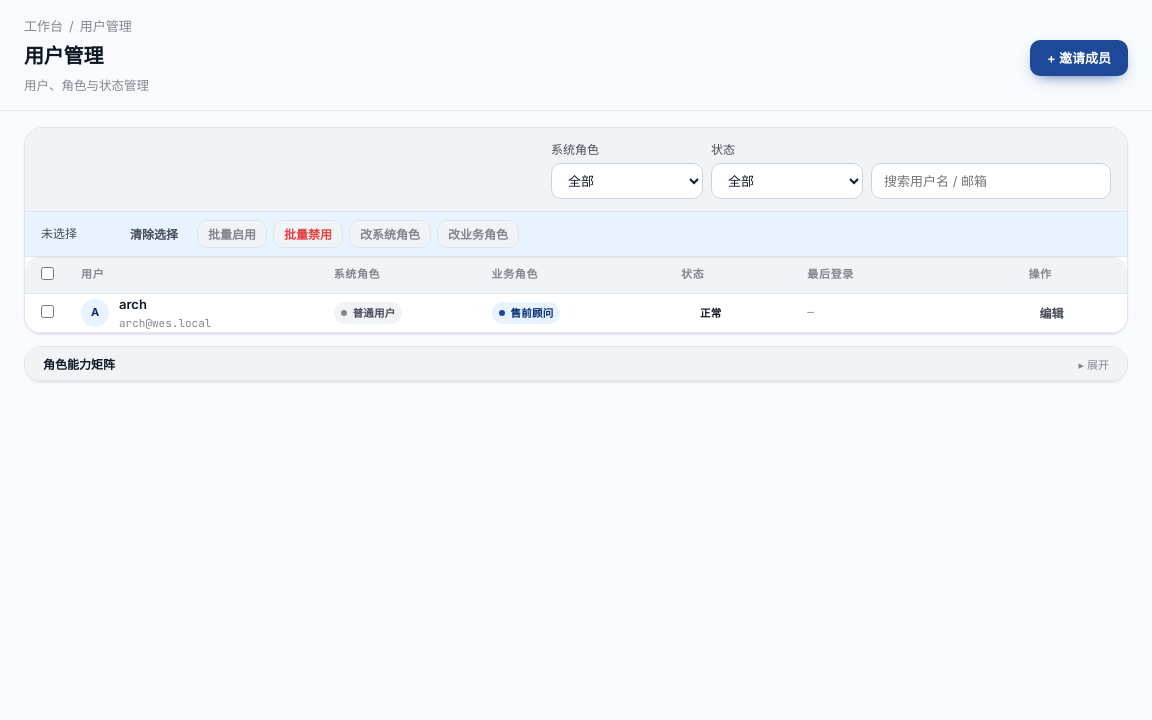
Scenario: UserManagement › does not patch unchanged user fields
Click the button with aria-label "编辑 arch". click: [1051, 313]
box: 1028,299 -> 1074,327
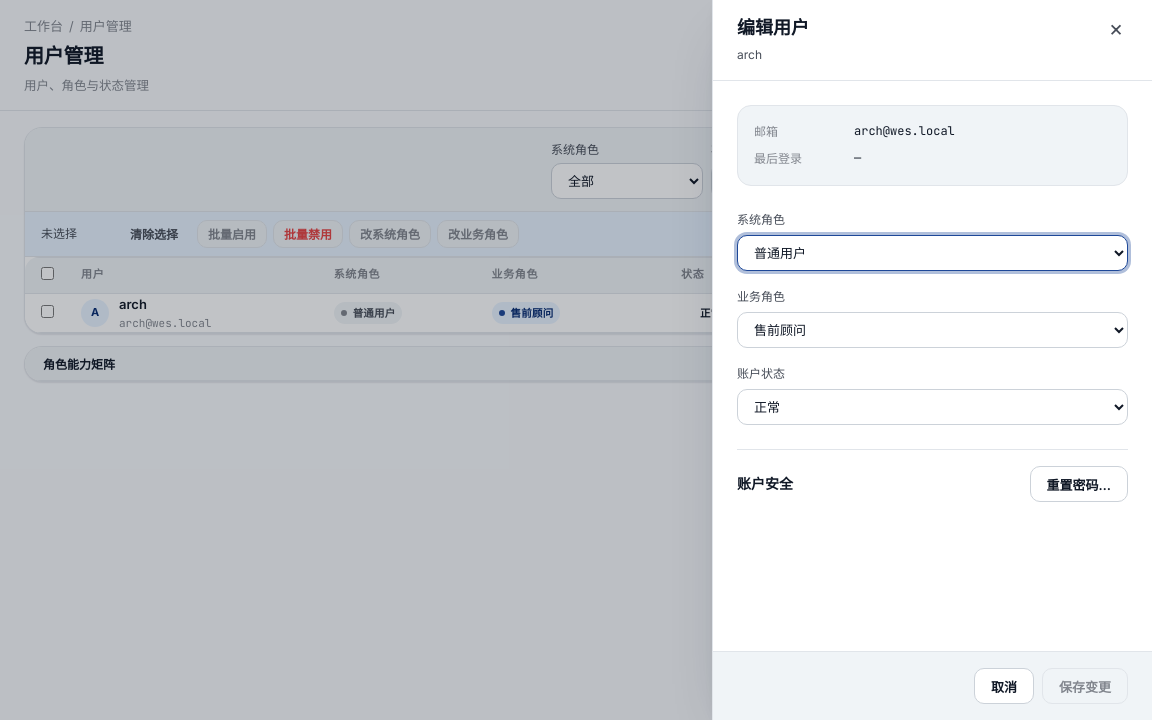
Select "管理员" in the dropdown labelled "系统角色". click: [932, 253]
box: 737,235 -> 1128,271
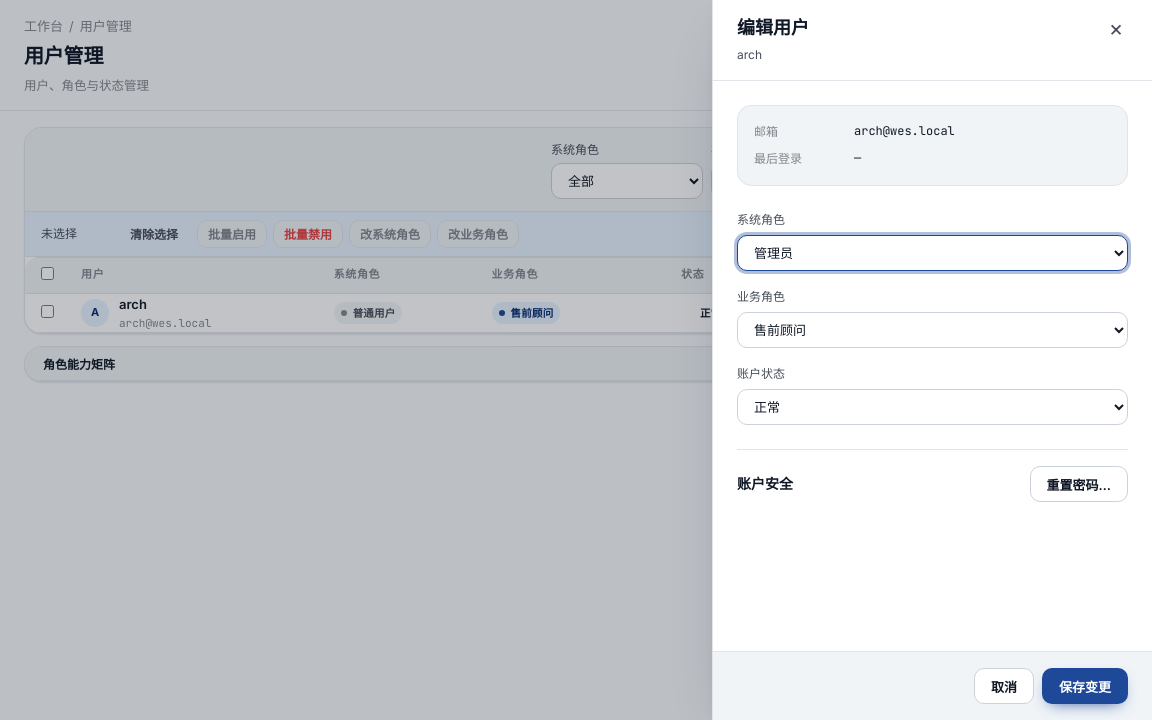
Click the button "保存变更". click: [1085, 686]
box: 1042,668 -> 1128,704
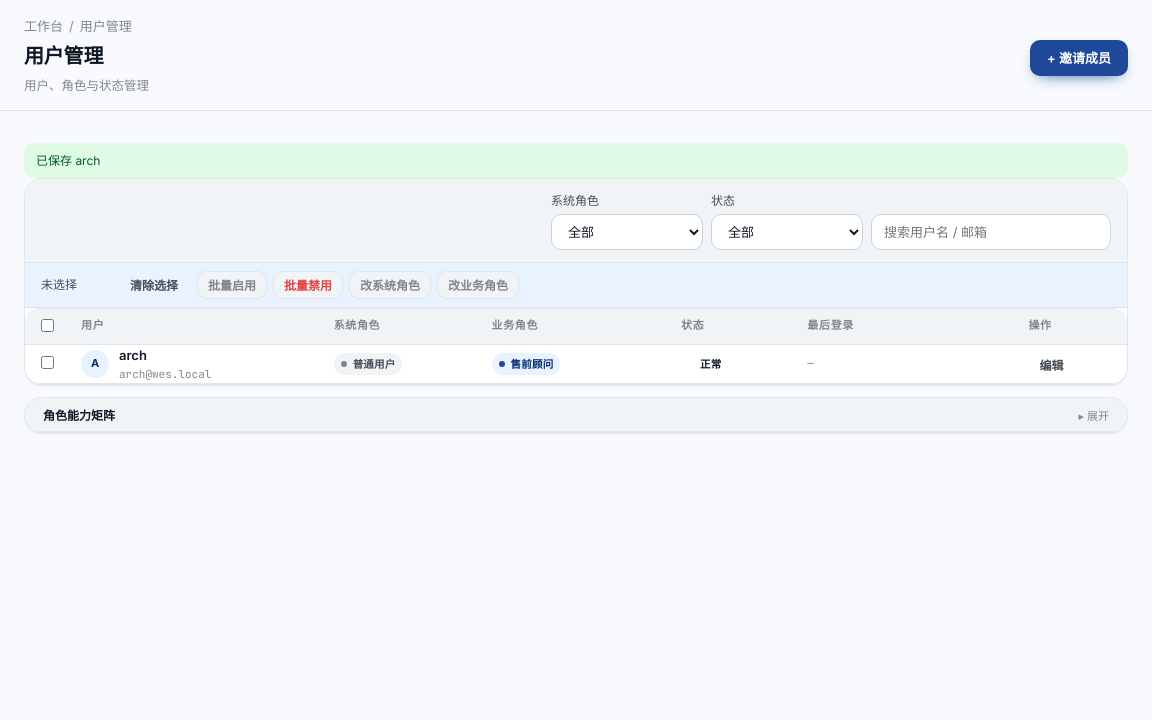
Check: the message reads "已保存 arch", box 36,152 -> 100,168
